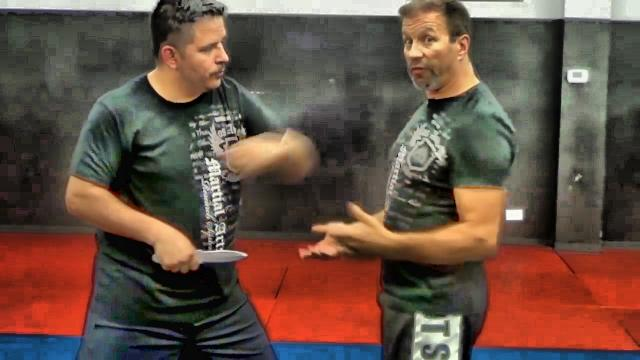knife: (150, 244, 252, 272)
